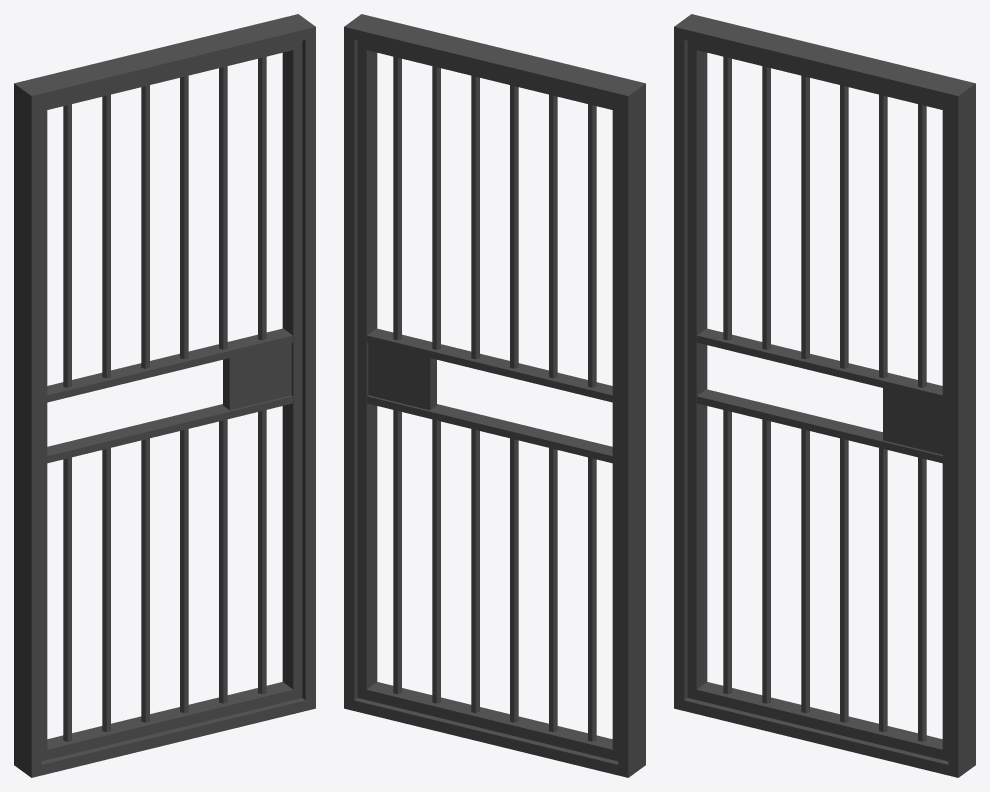
Rendered from Door_01.fbx.
3 renders of one model, left to right at view 1: azimuth 30°, elevation 25°; view 2: azimuth 150°, elevation 25°; view 3: azimuth 330°, elevation 25°, orthographic.
Parts seen in each view (by area): view 1: Door, Door_01; view 2: Door, Door_01; view 3: Door, Door_01.
Boxes of the visible parts, bbox=[...] form: Door: bbox=[41, 41, 302, 761]; Door_01: bbox=[14, 14, 315, 777]; Door: bbox=[357, 41, 618, 761]; Door_01: bbox=[344, 14, 645, 777]; Door: bbox=[687, 41, 948, 761]; Door_01: bbox=[674, 14, 975, 777].
Size of the model in its own units: 97.86 by 224 by 10.42.
1 material, 1 textured.
